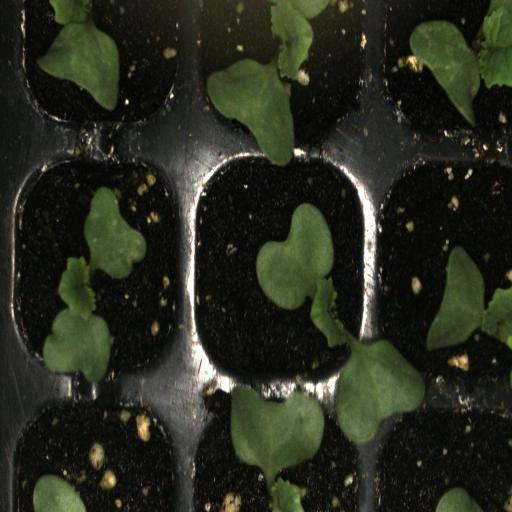Folha: (427, 247, 512, 349)
Germinacao: (0, 134, 188, 398), (190, 134, 368, 394), (368, 133, 512, 394), (190, 0, 370, 135), (8, 0, 187, 133), (190, 396, 369, 512), (370, 0, 512, 134)
